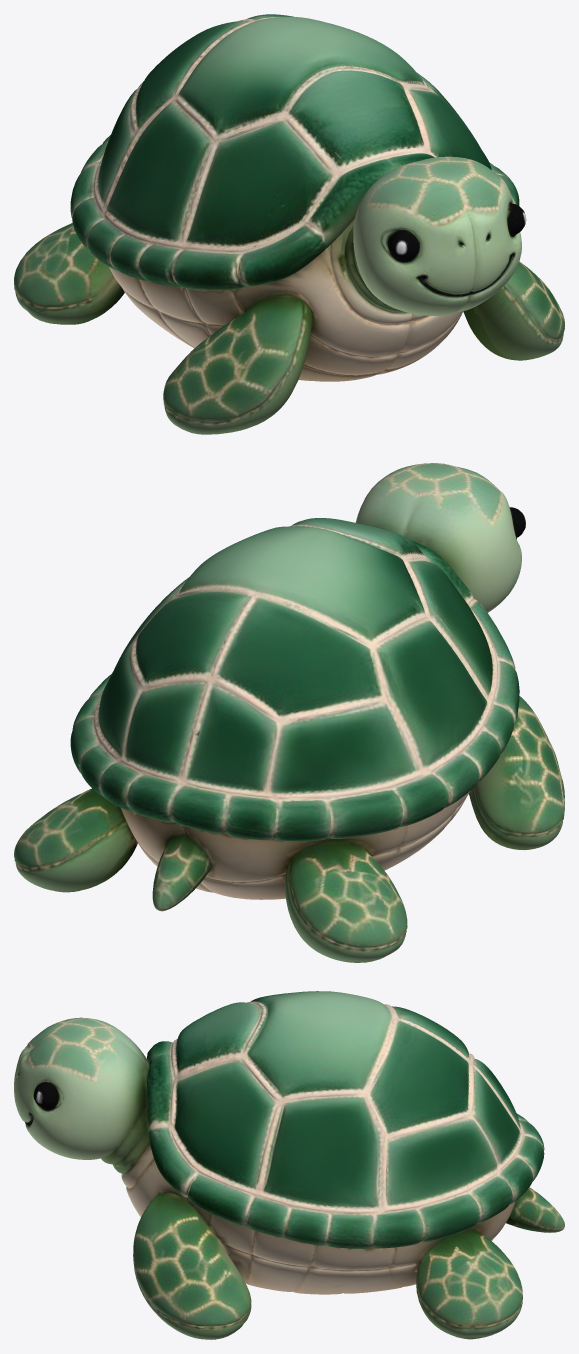
File: turtle.glb
3 views of the same model, one above another, from view 1: azimuth 30°, elevation 25°; view 2: azimuth 150°, elevation 25°; view 3: azimuth 270°, elevation 25° (orthographic). The views are drawn at different scales.
Visible parts, largest first — view 1: node_0; view 2: node_0; view 3: node_0.
Boxes of the visible parts, x1,y1,x2,y2 form: node_0: [14, 14, 564, 434]; node_0: [14, 463, 564, 962]; node_0: [14, 991, 564, 1339].
Bounding box in the file's own units: 0.7575 × 0.5728 × 1.08.
1 material, 1 textured.
